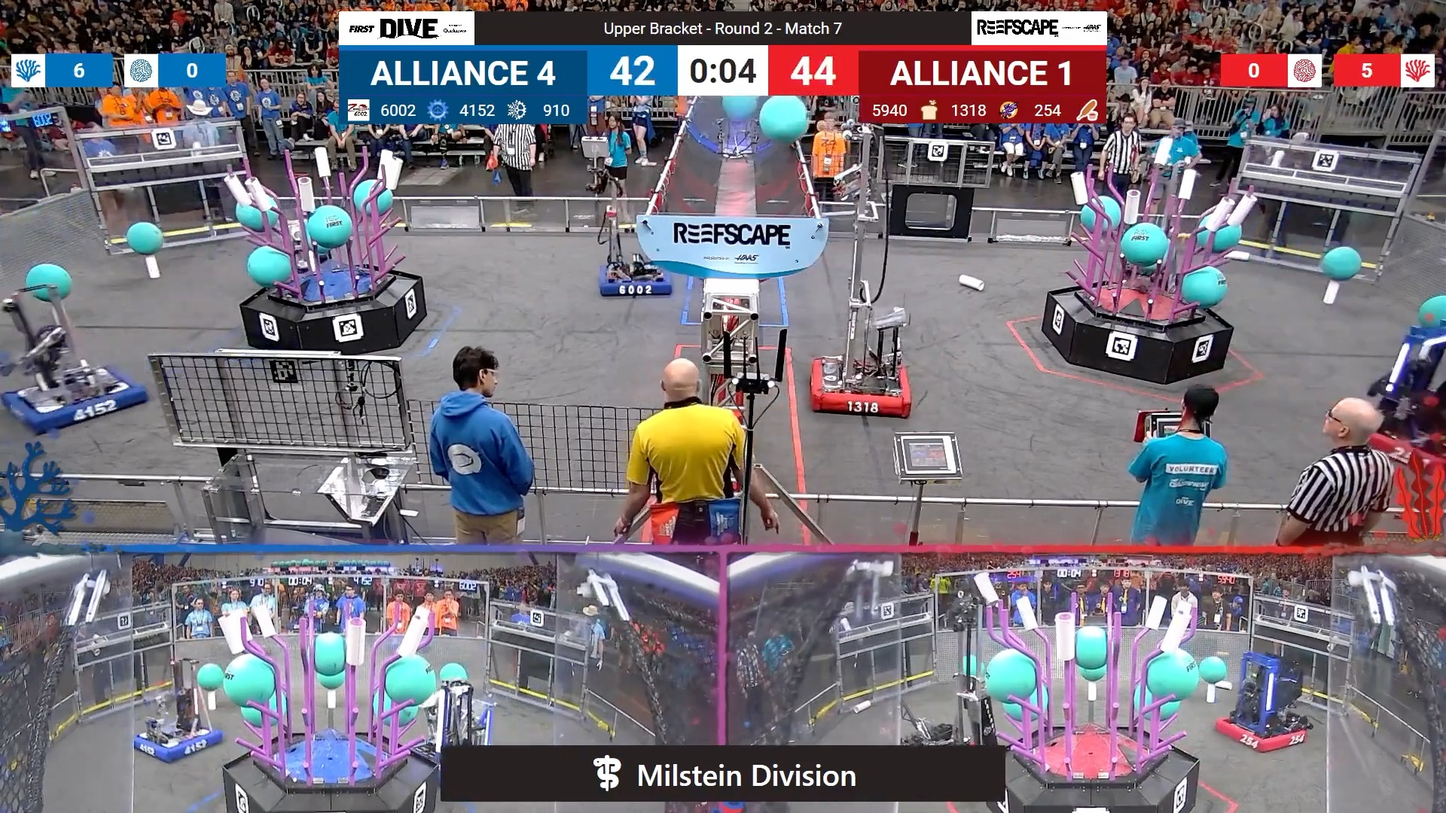bumpers: (0, 363, 152, 436), (800, 356, 925, 424), (1209, 704, 1308, 754), (127, 721, 229, 768), (593, 259, 677, 298)
